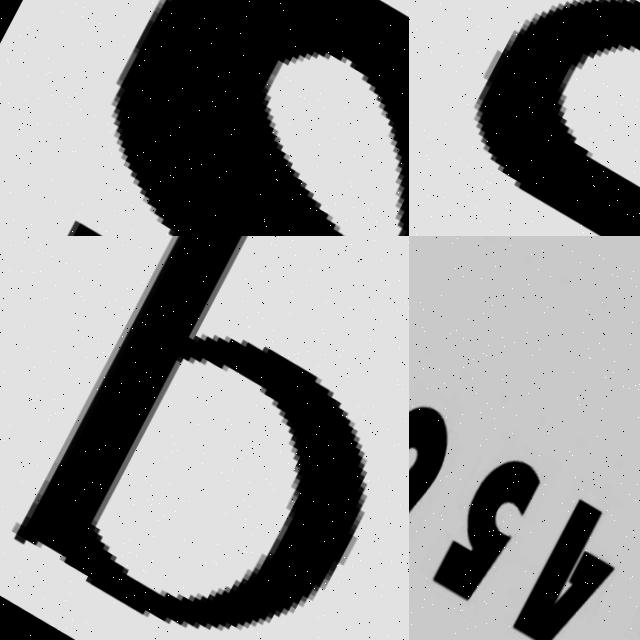3: (589, 525, 640, 640)
4: (495, 478, 640, 640)
5: (409, 421, 555, 640)
6: (409, 368, 477, 596)
G: (409, 0, 640, 236)
Q: (0, 236, 409, 640)
S: (0, 0, 409, 236)
